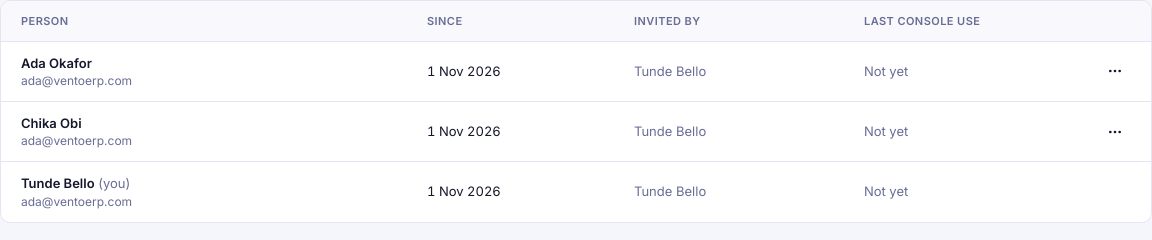
Test: the super-admins table › offers Reset two-step only where the server allows it, and nothing on your own row
The width and height of the screenshot is (1152, 240).
Click the button named "Actions for Chika Obi" at (1115, 132), box left=1099, top=116, right=1131, bottom=148
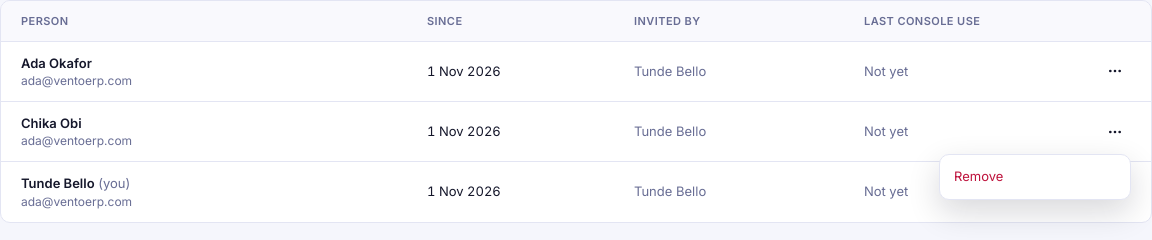
Result: the menu item "Remove" is shown at left=954, top=168, right=1003, bottom=184
